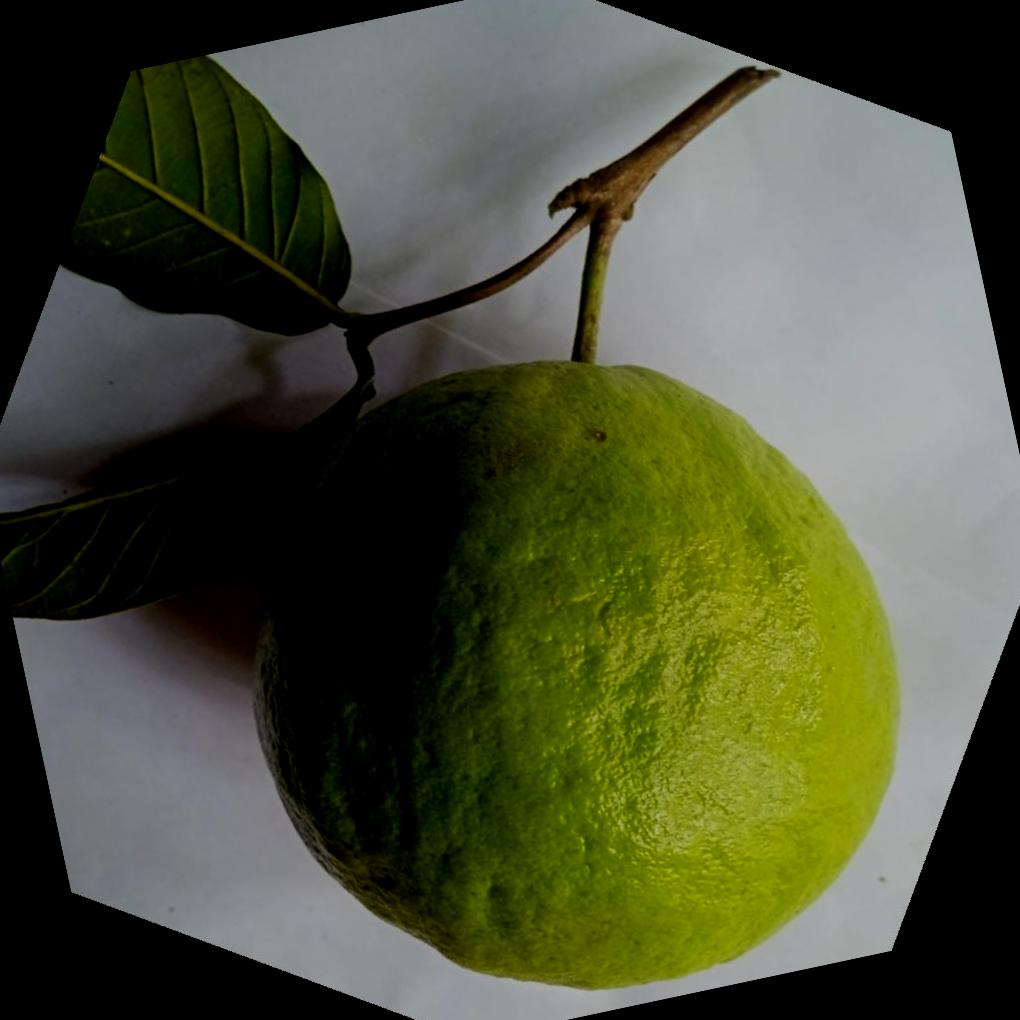FreshGuava: (0, 55, 903, 990)
